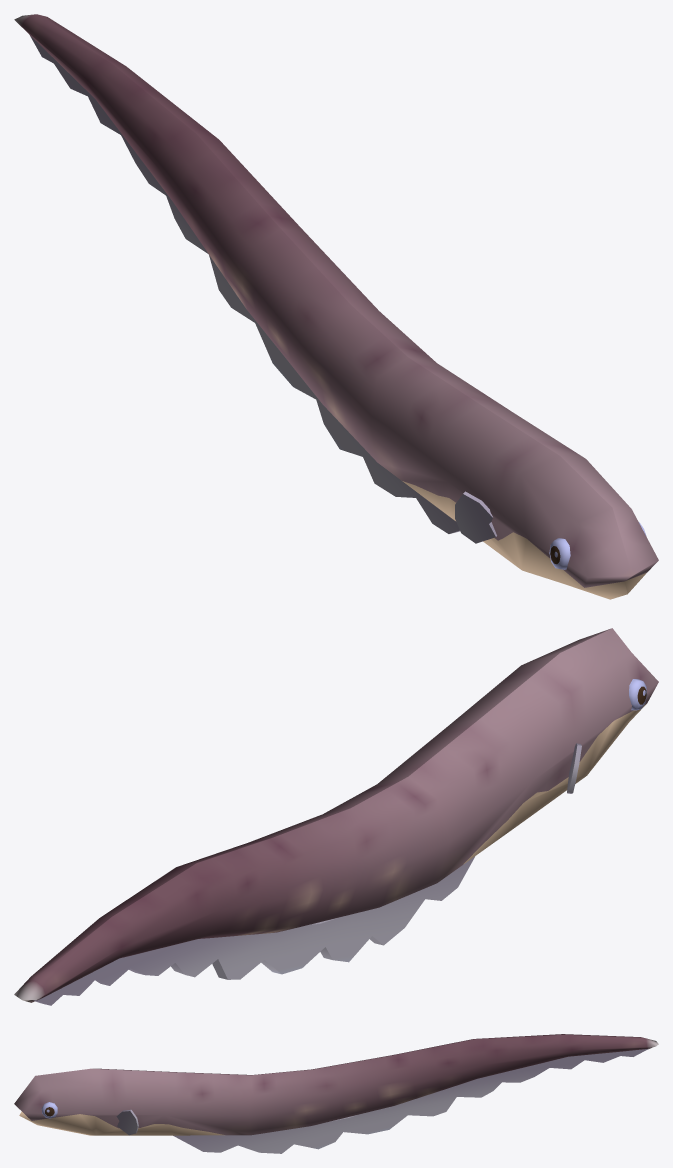
The picture shows the model from 3 angles, top to bottom: view 1: azimuth 30°, elevation 25°; view 2: azimuth 150°, elevation 25°; view 3: azimuth 270°, elevation 25°; orthographic projection. The views are drawn at different scales.
Visible parts, largest first — view 1: Fish_ElectricEel; view 2: Fish_ElectricEel; view 3: Fish_ElectricEel.
Part boxes in pixels (x1,y1,x2,y2): Fish_ElectricEel: (14,14,658,599); Fish_ElectricEel: (14,628,658,1005); Fish_ElectricEel: (14,1034,658,1153).
Size of the model in its own units: 22.89 by 39.32 by 195.
